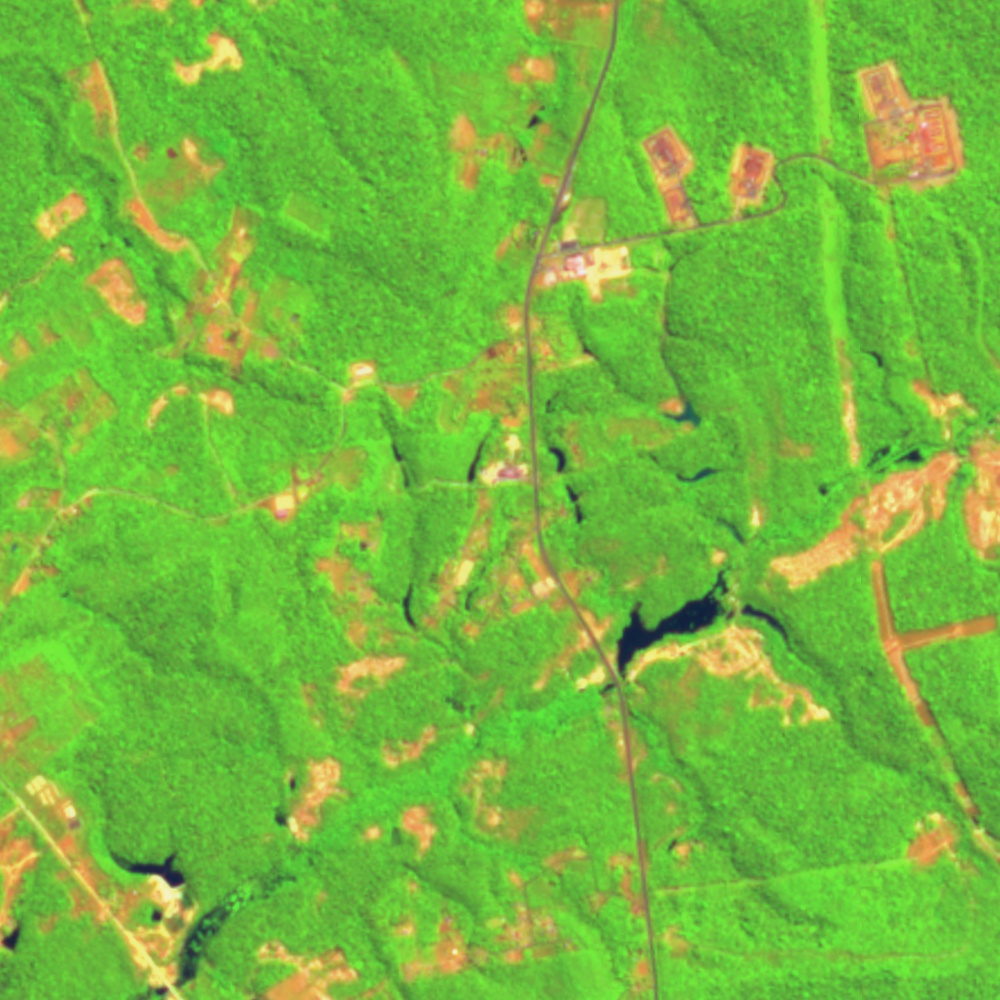legal: (767, 329, 1000, 597), (554, 548, 833, 732), (1, 701, 138, 954), (262, 351, 431, 526), (293, 501, 412, 737), (483, 840, 657, 1000), (170, 198, 318, 367), (118, 855, 286, 1000), (436, 303, 550, 496), (421, 496, 564, 640), (124, 133, 238, 273), (856, 56, 966, 190), (1, 362, 129, 474), (523, 189, 639, 307), (373, 682, 515, 775), (1, 475, 110, 593), (643, 258, 714, 437), (1, 183, 107, 302), (387, 573, 492, 683), (444, 93, 557, 194), (501, 1, 619, 92), (903, 774, 1000, 881), (242, 931, 390, 1000), (384, 873, 472, 988), (454, 751, 547, 853), (272, 741, 356, 853), (638, 728, 704, 870), (537, 391, 604, 524), (137, 373, 253, 433), (643, 118, 701, 231), (89, 254, 163, 336), (362, 808, 445, 870), (67, 53, 124, 143), (169, 27, 246, 89), (724, 135, 778, 218), (528, 310, 604, 368), (372, 411, 418, 503), (75, 1, 286, 16), (1, 314, 61, 365), (701, 498, 768, 540), (647, 449, 740, 479), (489, 220, 539, 257)
